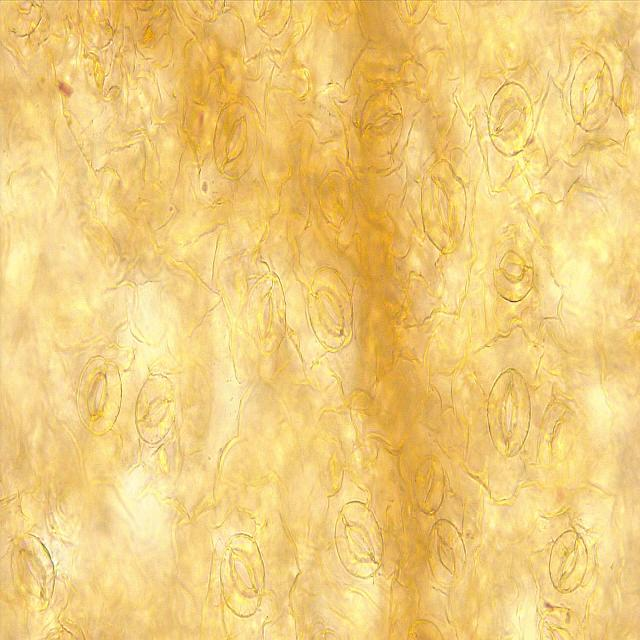Stomata: (420, 157, 467, 255), (8, 529, 58, 615), (486, 367, 532, 459), (334, 498, 384, 579), (220, 530, 266, 618), (76, 354, 124, 438), (308, 266, 354, 352), (569, 49, 614, 134), (213, 98, 258, 181), (486, 80, 534, 156), (247, 269, 288, 357), (359, 85, 404, 158), (134, 371, 177, 445), (426, 516, 468, 588), (536, 399, 575, 472), (494, 233, 534, 303), (548, 529, 588, 596), (318, 169, 354, 231), (76, 0, 118, 49), (414, 453, 446, 515), (539, 605, 587, 640), (252, 0, 292, 38)
